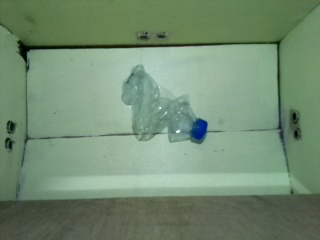damaged-bottle: (119, 63, 207, 148)
